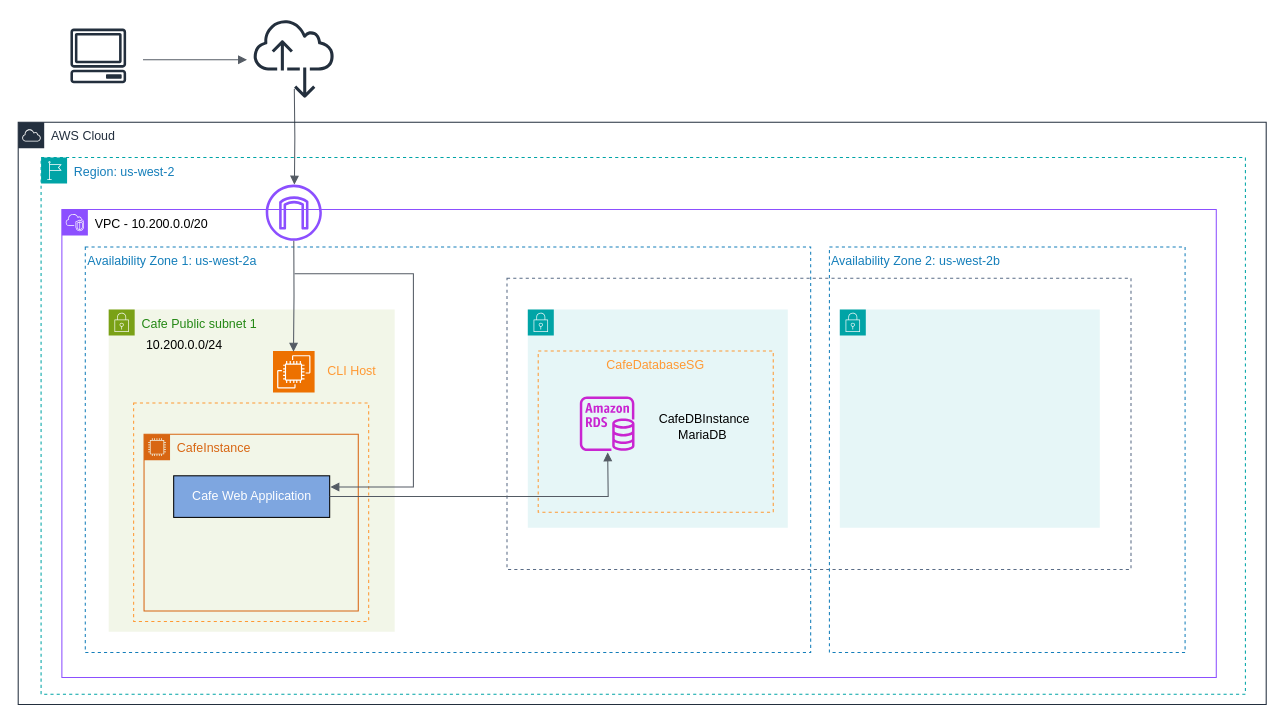
Image size: 1284x723. Some labels were removed from this diagram. The box of each missing label's shape, as (x1, y1, x2, y2) in pixels:
Cafe Private subnet 1: 10.200.2.0/23: (527, 308, 788, 528)
Cafe Private subnet 2: 10.200.4.0/23: (839, 308, 1100, 528)
CafeDB Subnet Group: (506, 277, 1131, 569)
CafeSecurityGroup: (133, 402, 369, 621)
